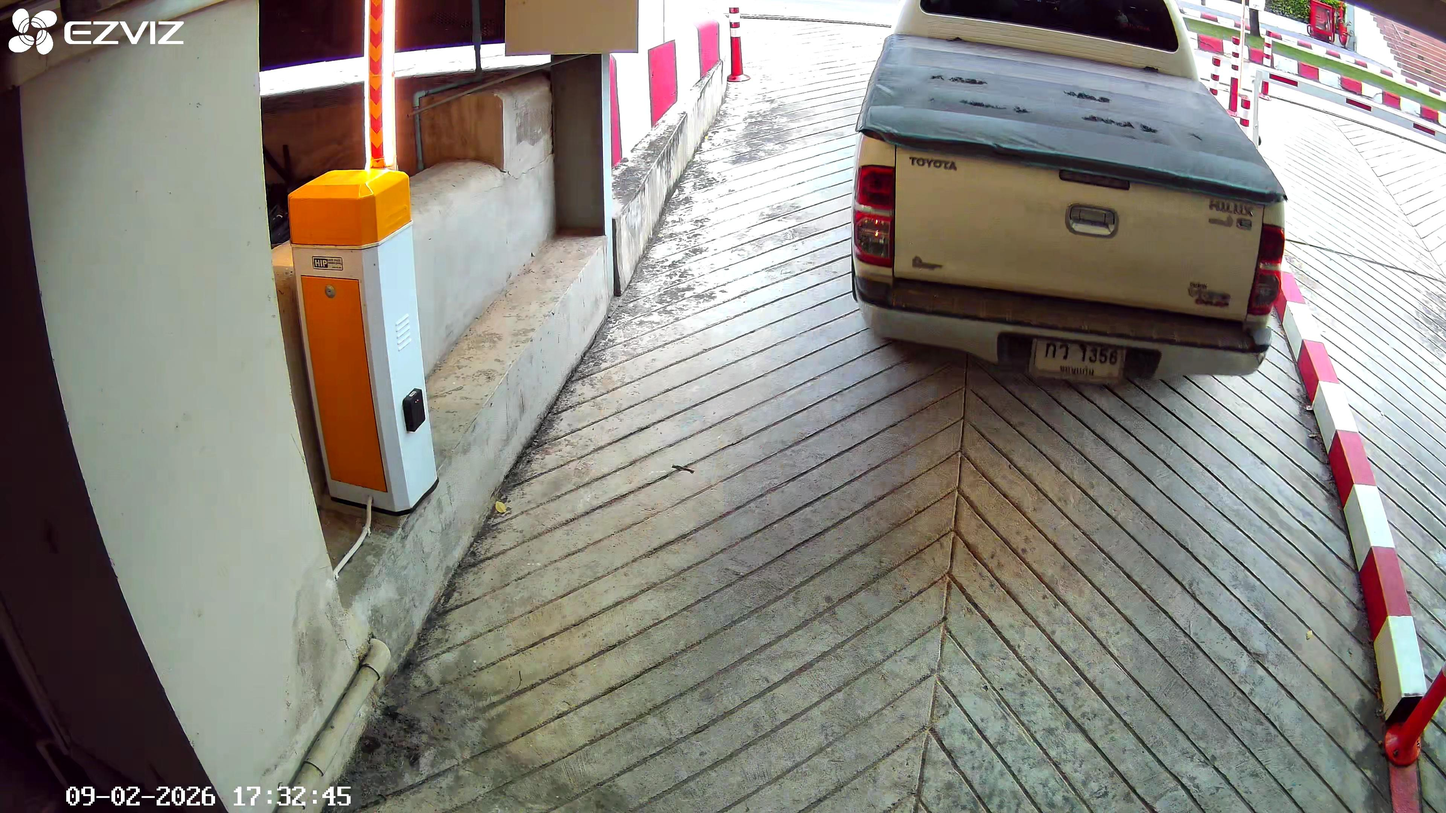car: (848, 5, 1292, 386)
license-plate: (1028, 327, 1129, 390)
